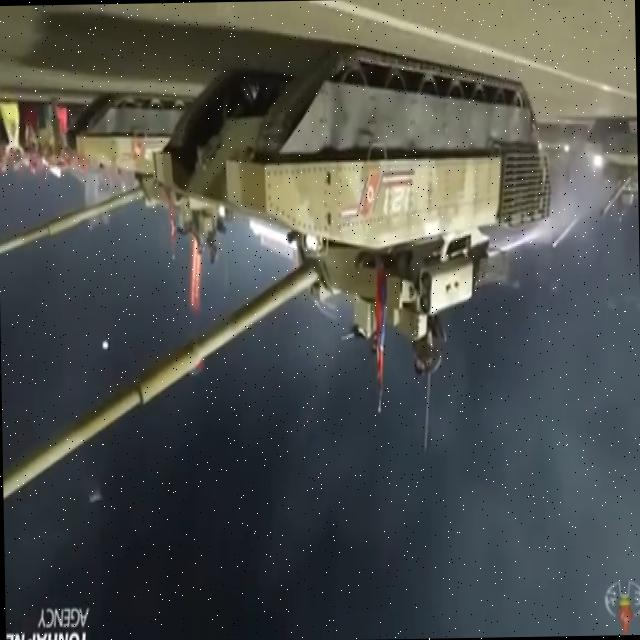north tank: (0, 64, 580, 506), (0, 99, 232, 283), (568, 102, 638, 234)
